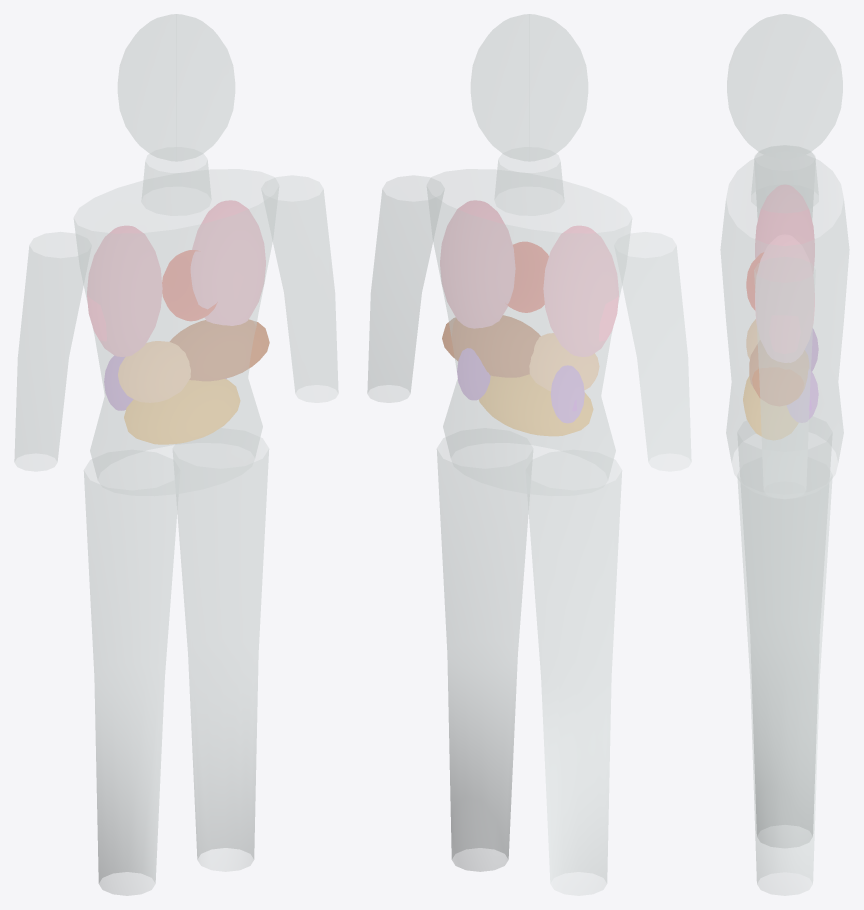
The model's file is body.glb.
3 views of the same model, side by side, from view 1: azimuth 30°, elevation 25°; view 2: azimuth 150°, elevation 25°; view 3: azimuth 270°, elevation 25° (orthographic).
Visible parts, largest first — view 1: body, lung, intestine, liver, stomach, heart, kidney; view 2: body, lung, intestine, liver, kidney, heart, stomach; view 3: body, lung, liver, intestine, kidney, heart, stomach.
Part boxes in pixels (<box>): body: <box>14,14,338,895</box>; lung: <box>87,200,265,356</box>; intestine: <box>124,379,240,444</box>; liver: <box>169,319,269,381</box>; stomach: <box>118,341,190,402</box>; heart: <box>162,250,217,321</box>; kidney: <box>104,355,226,410</box>; body: <box>367,14,691,895</box>; lung: <box>440,200,618,356</box>; intestine: <box>479,374,593,436</box>; liver: <box>442,315,540,377</box>; kidney: <box>457,348,584,423</box>; heart: <box>505,241,548,312</box>; stomach: <box>529,333,599,391</box>; body: <box>720,14,849,895</box>; lung: <box>755,184,814,362</box>; liver: <box>749,340,808,406</box>; intestine: <box>743,376,798,440</box>; kidney: <box>787,328,818,422</box>; heart: <box>746,252,764,310</box>; stomach: <box>746,319,759,359</box>.
Bounding box in the file's own units: 0.646 × 1.66 × 0.23.
